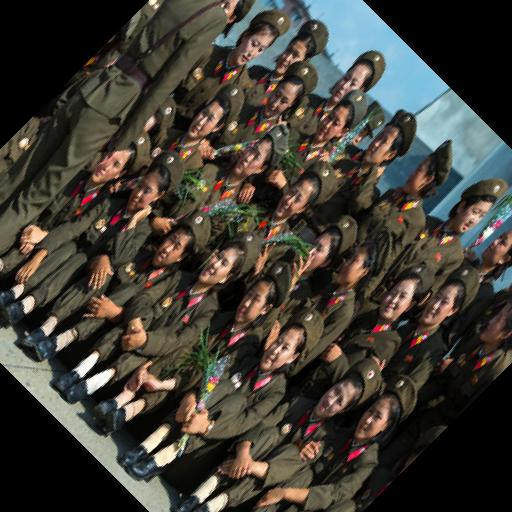north army: (23, 16, 512, 482)
